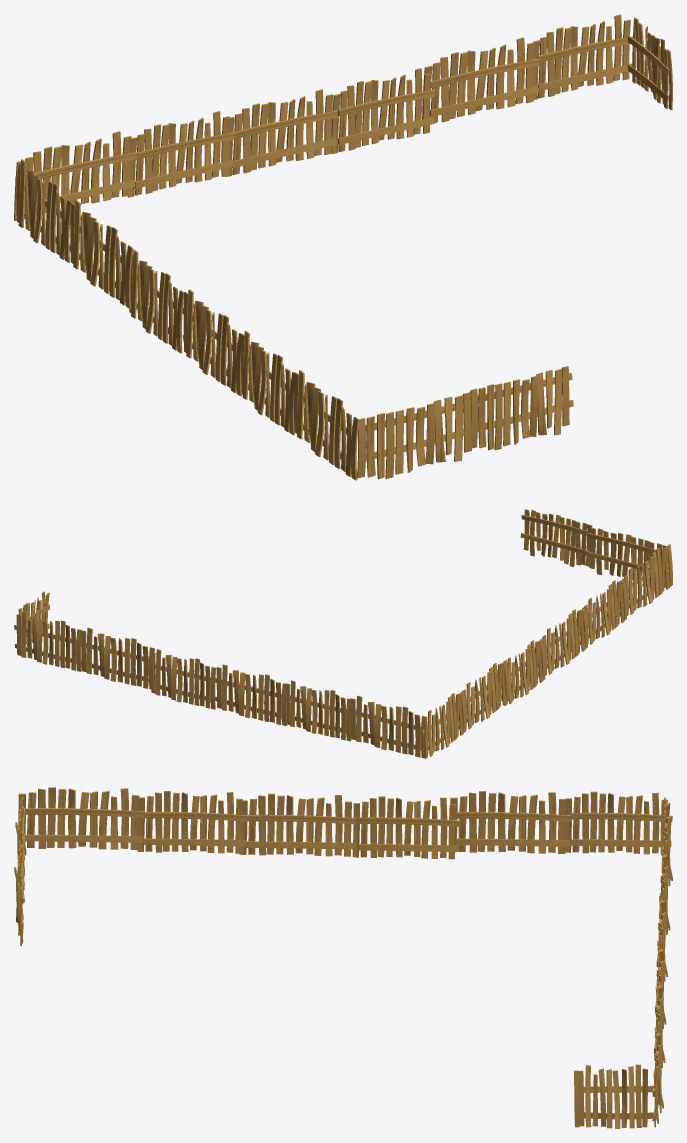
The model's file is cerca.obj.
3 views of the same model, one above another, from view 1: azimuth 30°, elevation 25°; view 2: azimuth 150°, elevation 25°; view 3: azimuth 270°, elevation 25° (orthographic). The views are drawn at different scales.
Visible parts, largest first — view 1: polySurface194; view 2: polySurface194; view 3: polySurface194.
Part boxes in pixels (box(x1,y1,x2,y2)): polySurface194: box(14, 14, 672, 480); polySurface194: box(14, 509, 672, 758); polySurface194: box(14, 787, 672, 1128).
Size of the model in its own units: 25.78 by 2.97 by 25.34.
